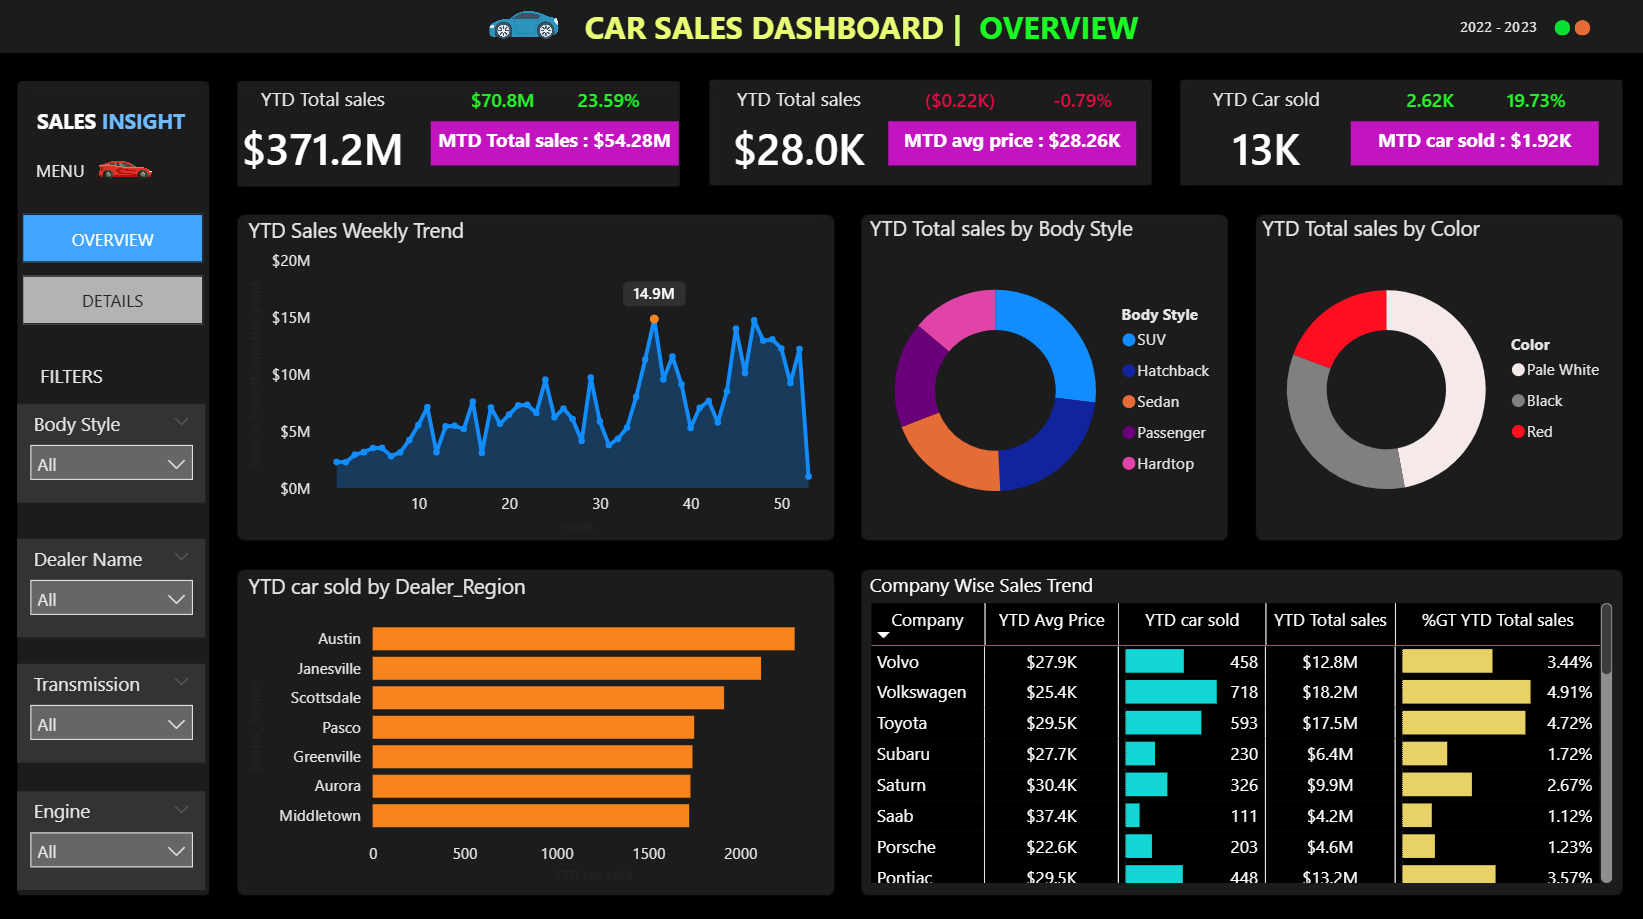

Layout of this report page (visuals, bound fields, positions):
{"tool":"powerbi","page":{"name":"OVERVIEW","canvas":[1280,720],"ordinal":0},"visuals":[{"type":"card","title":"YTD Total sales","fields":{"Values":["car_data.YTD Total sales"]},"box":[180,65.7,147.1,80],"z":0},{"type":"card","fields":{"Values":["car_data.Sales Difference"]},"box":[351.4,65.7,82.9,28.6],"z":1000},{"type":"card","fields":{"Values":["car_data.YoY Sales Growth"]},"box":[434.3,65.7,82.9,28.6],"z":2000},{"type":"card","fields":{"Values":["car_data.MTD KPI"]},"box":[337.1,94.3,192.9,34.3],"z":3000},{"type":"card","title":"YTD Total sales","fields":{"Values":["car_data.YTD Avg Price"]},"box":[554,66.1,139,79.7],"z":4000},{"type":"card","fields":{"Values":["car_data.Avg price diff"]},"box":[707.1,65.7,82.9,28.6],"z":5000},{"type":"card","fields":{"Values":["car_data.YoY avg price growth"]},"box":[802.9,65.7,82.9,28.6],"z":6000},{"type":"card","fields":{"Values":["car_data.MTD Avg price KPI"]},"box":[692.9,94.3,192.9,34.3],"z":7000},{"type":"card","title":"YTD Car sold","fields":{"Values":["car_data.YTD car sold"]},"box":[921.4,66.1,131.2,79.7],"z":8000},{"type":"card","fields":{"Values":["car_data.car sold diff"]},"box":[1072.9,65.7,82.9,28.6],"z":9000},{"type":"card","fields":{"Values":["car_data.YoY car sold growth"]},"box":[1155.7,65.7,82.9,28.6],"z":10000},{"type":"card","fields":{"Values":["car_data.MTD car sold KPI"]},"box":[1052.9,94.3,192.9,34.3],"z":11000},{"type":"areaChart","title":"YTD Sales Weekly Trend","fields":{"Category":["Calender table.week"],"Y":["Sum(car_data.Price ($))","car_data.Max point"]},"box":[190.7,167.4,462.8,252.3],"z":12000},{"type":"donutChart","fields":{"Category":["car_data.Body Style"],"Y":["car_data.YTD Total sales"]},"box":[673.3,166.3,283.7,253.5],"z":13000},{"type":"donutChart","fields":{"Y":["car_data.YTD Total sales"],"Category":["car_data.Color"]},"box":[979.1,166.3,281.4,252.3],"z":14000},{"type":"barChart","fields":{"Category":["car_data.Dealer_Region"],"Y":["car_data.YTD car sold"]},"box":[190.7,444.2,462.8,247.7],"z":15000},{"type":"tableEx","title":"Company Wise Sales Trend","fields":{"Values":["car_data.Company","car_data.YTD Avg Price","car_data.YTD car sold","car_data.YTD Total sales1","car_data.YTD Total sales"]},"box":[673.3,444.2,587.2,247.7],"z":16000},{"type":"textbox","box":[423.3,0,498.8,43],"z":17000},{"type":"slicer","fields":{"Values":["car_data.Body Style"]},"box":[15.1,314,146.5,76.7],"z":18000},{"type":"slicer","fields":{"Values":["car_data.Dealer_Name"]},"box":[15.1,418.6,146.5,76.7],"z":19000},{"type":"slicer","fields":{"Values":["car_data.Transmission"]},"box":[15.1,516.3,146.5,76.7],"z":20000},{"type":"slicer","fields":{"Values":["car_data.Engine"]},"box":[15.1,615.1,146.5,76.7],"z":21000},{"type":"textbox","box":[15.1,276.7,84.9,32.6],"z":22000},{"type":"textbox","box":[19.8,77.9,138.4,33.7],"z":23000},{"type":"textbox","box":[15.1,118.6,67.4,27.9],"z":24000},{"type":"pageNavigator","box":[19.8,166.3,141.9,87.2],"z":25000},{"type":"textbox","box":[1132.4,6.2,128.3,29.8],"z":26000},{"type":"shape","box":[1211.4,15.4,12.3,12.3],"z":27000},{"type":"shape","box":[1226.8,15.4,12.3,12.3],"z":28000},{"type":"image","box":[377.8,3.1,63.7,32.9],"z":29000},{"type":"image","box":[73.9,115,52.4,35.9],"z":30000}]}

Visuals, with their boxes on the page's 1280x720 design canvas (x1, y1, x2, y2). These are canvas units, not pixel positions in the 1643x919 screenshot, which may show the page scaled, cropped or inside an application window:
"YTD Total sales" card: 180/66/327/146
card - car_data.Sales Difference: 351/66/434/94
card - car_data.YoY Sales Growth: 434/66/517/94
card - car_data.MTD KPI: 337/94/530/129
"YTD Total sales" card: 554/66/693/146
card - car_data.Avg price diff: 707/66/790/94
card - car_data.YoY avg price growth: 803/66/886/94
card - car_data.MTD Avg price KPI: 693/94/886/129
"YTD Car sold" card: 921/66/1053/146
card - car_data.car sold diff: 1073/66/1156/94
card - car_data.YoY car sold growth: 1156/66/1239/94
card - car_data.MTD car sold KPI: 1053/94/1246/129
"YTD Sales Weekly Trend" areaChart: 191/167/654/420
donutChart - car_data.Body Style x car_data.YTD Total sales: 673/166/957/420
donutChart - car_data.YTD Total sales x car_data.Color: 979/166/1260/419
barChart - car_data.Dealer_Region x car_data.YTD car sold: 191/444/654/692
"Company Wise Sales Trend" tableEx: 673/444/1260/692
textbox: 423/0/922/43
slicer - car_data.Body Style: 15/314/162/391
slicer - car_data.Dealer_Name: 15/419/162/495
slicer - car_data.Transmission: 15/516/162/593
slicer - car_data.Engine: 15/615/162/692
textbox: 15/277/100/309
textbox: 20/78/158/112
textbox: 15/119/82/146
pageNavigator: 20/166/162/254
textbox: 1132/6/1261/36
shape: 1211/15/1224/28
shape: 1227/15/1239/28
image: 378/3/442/36
image: 74/115/126/151
